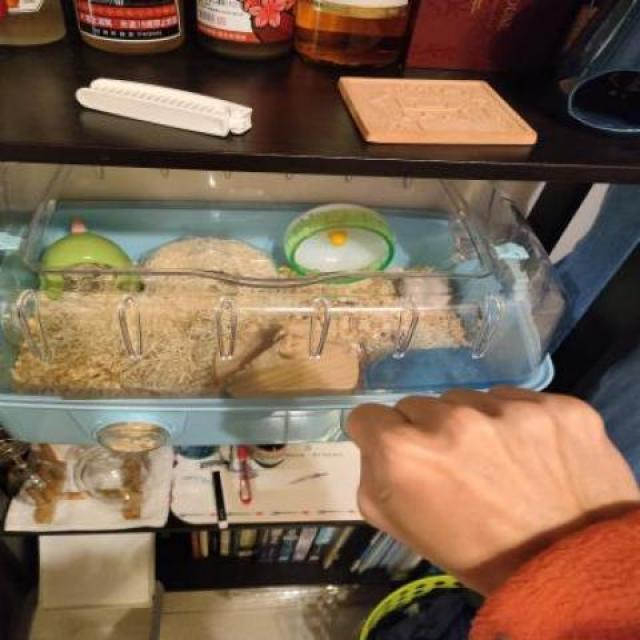fist: (338, 374, 640, 594)
